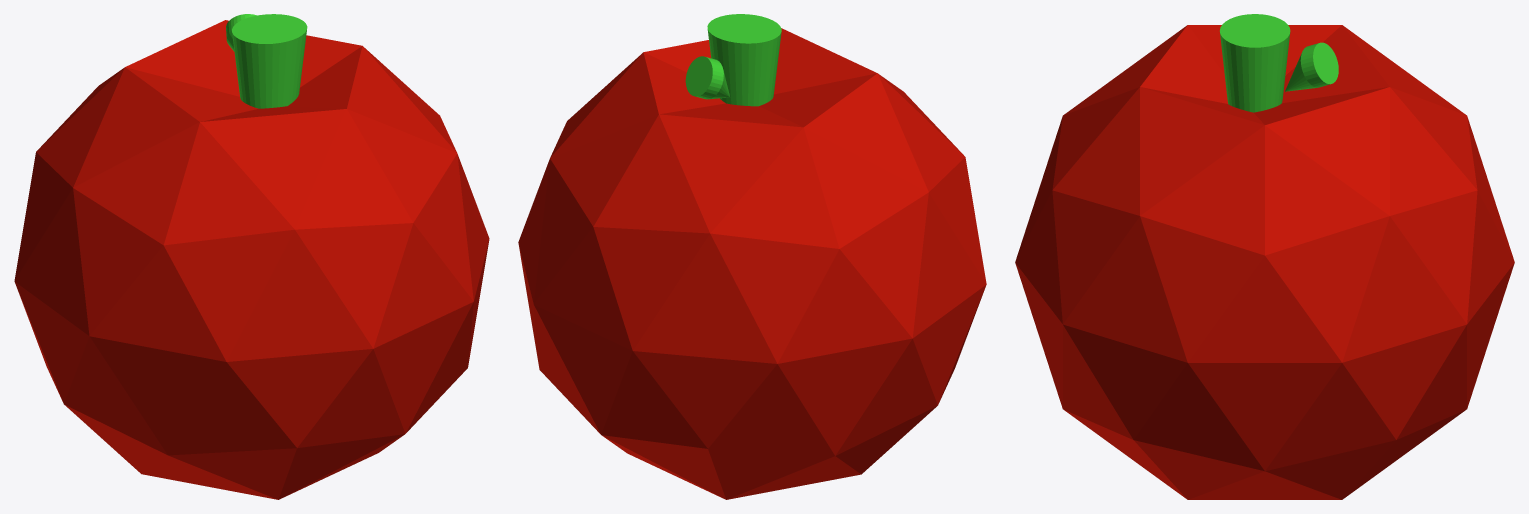
File: tomatitos.fbx
3 views of the same model, side by side, from view 1: azimuth 30°, elevation 25°; view 2: azimuth 150°, elevation 25°; view 3: azimuth 270°, elevation 25° (orthographic). The views are drawn at different scales.
Parts seen in each view (by area): view 1: Cylinder; view 2: Cylinder; view 3: Cylinder.
Part boxes in pixels (x1=…): Cylinder: x1=14, y1=14, x2=489, y2=499; Cylinder: x1=518, y1=14, x2=986, y2=499; Cylinder: x1=1015, y1=14, x2=1514, y2=499.
Size of the model in its own units: 41.31 by 44.54 by 43.43.
